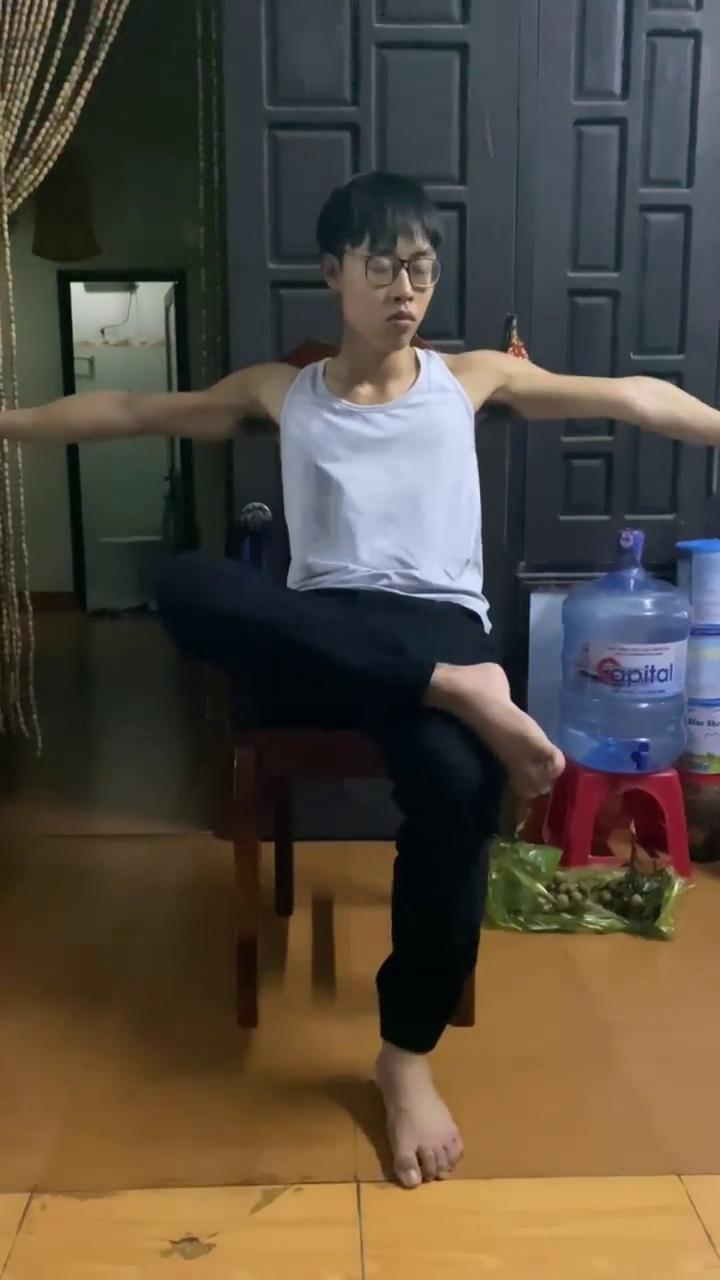BadPosture: (178, 555, 562, 1188)
